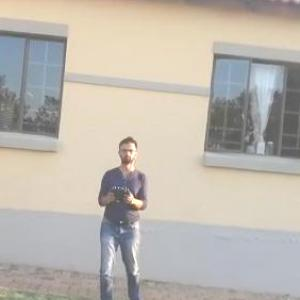follow: (88, 131, 152, 299)
